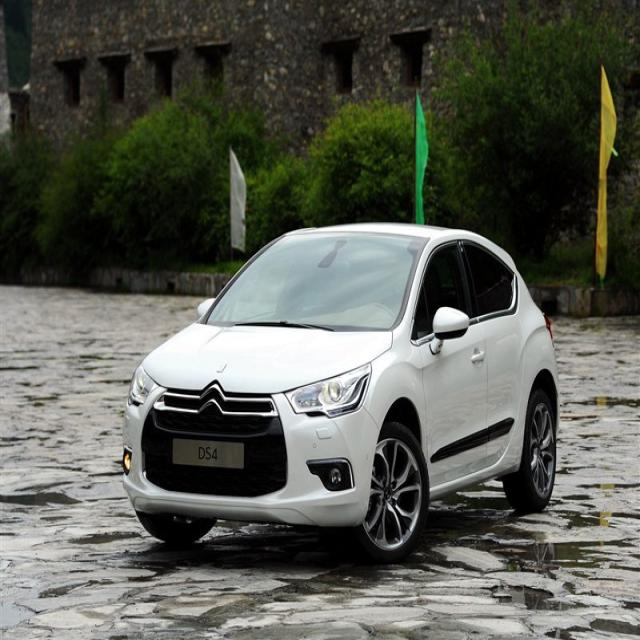door: (458, 240, 527, 472)
front_bumper: (122, 397, 380, 527)
front_glass: (204, 233, 430, 334)
front_left_side_door: (413, 240, 491, 497)
front_left_side_light: (283, 360, 374, 420)
front_left_side_mirror: (431, 305, 470, 350)
front_right_side_light: (128, 361, 158, 410)
front_right_side_mirror: (197, 297, 214, 319)
wheel: (360, 424, 429, 556), (505, 390, 557, 510)
